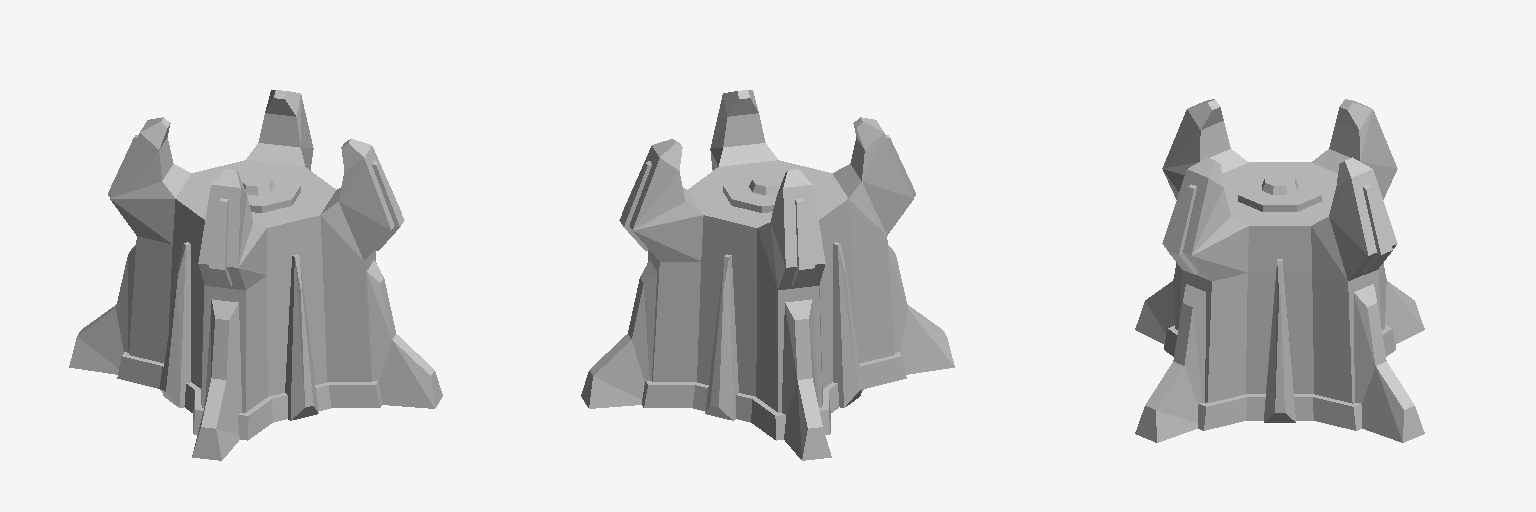
The model's file is MageTower_Lvl4_B.obj.
3 views of the same model, side by side, from view 1: azimuth 30°, elevation 25°; view 2: azimuth 150°, elevation 25°; view 3: azimuth 270°, elevation 25° (orthographic).
Visible parts, largest first — view 1: TB_MageTower_Lvl4_B; view 2: TB_MageTower_Lvl4_B; view 3: TB_MageTower_Lvl4_B.
Boxes of the visible parts, x1,y1,x2,y2 form: TB_MageTower_Lvl4_B: [69, 90, 442, 460]; TB_MageTower_Lvl4_B: [581, 90, 954, 460]; TB_MageTower_Lvl4_B: [1135, 99, 1424, 442].
Bounding box in the file's own units: 9.32 × 8.93 × 9.32.